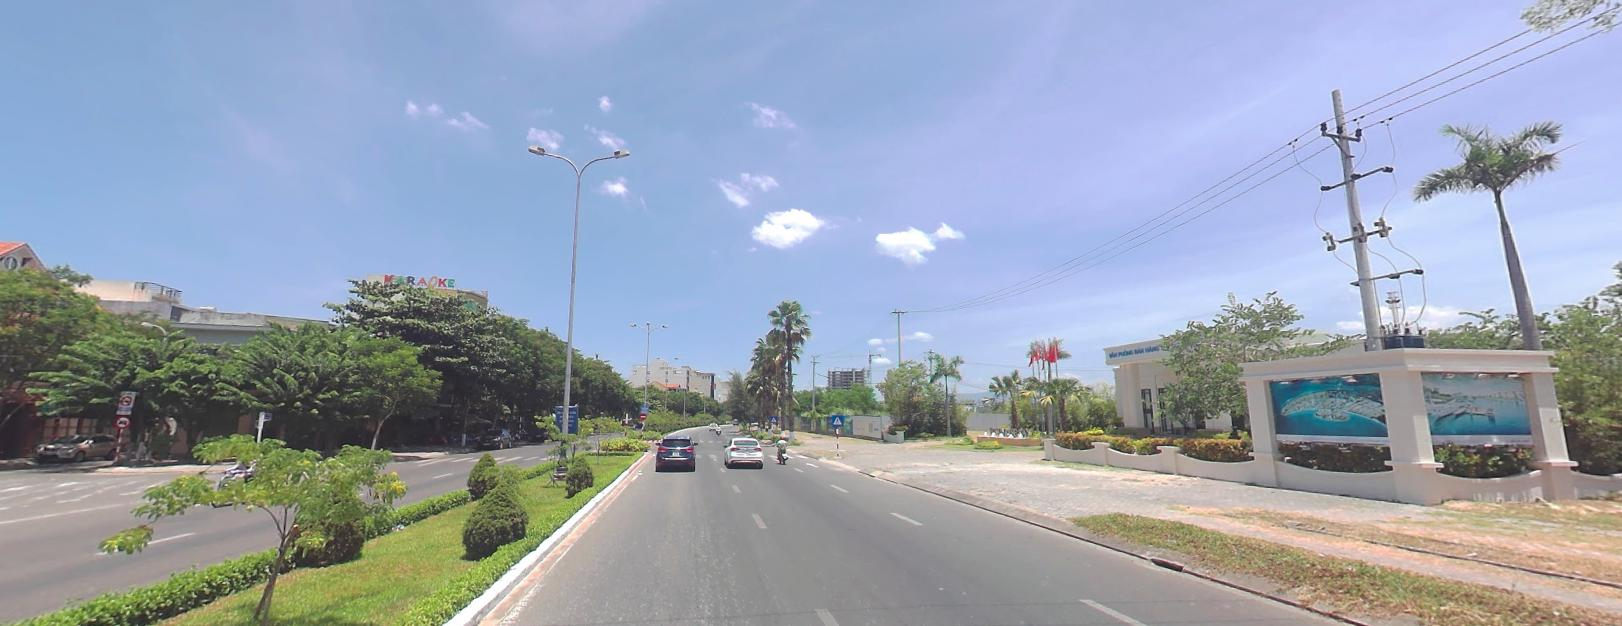Cam nguoc chieu: (639, 411, 645, 417)
